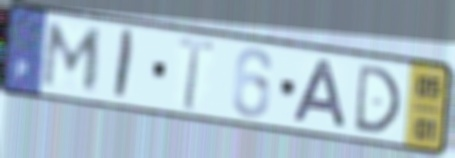6: (229, 46, 274, 120)
A: (289, 57, 350, 132)
D: (352, 62, 404, 136)
I: (110, 26, 138, 104)
M: (39, 19, 107, 94)
T: (176, 33, 217, 113)
